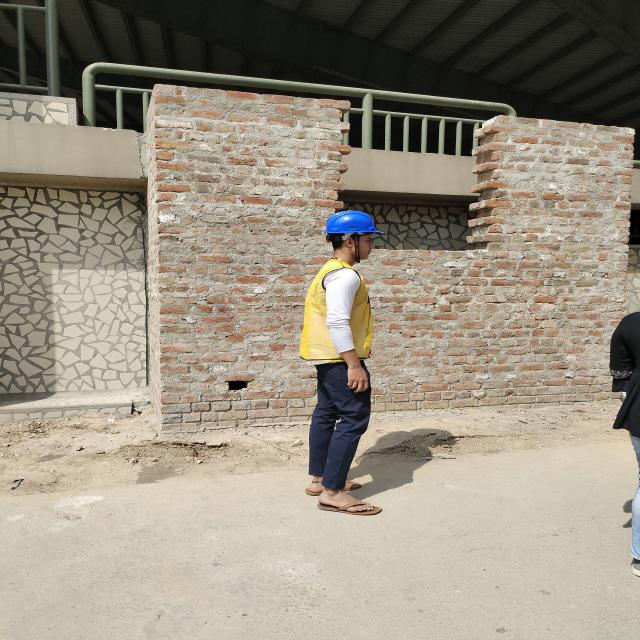safe: (301, 211, 382, 513)
